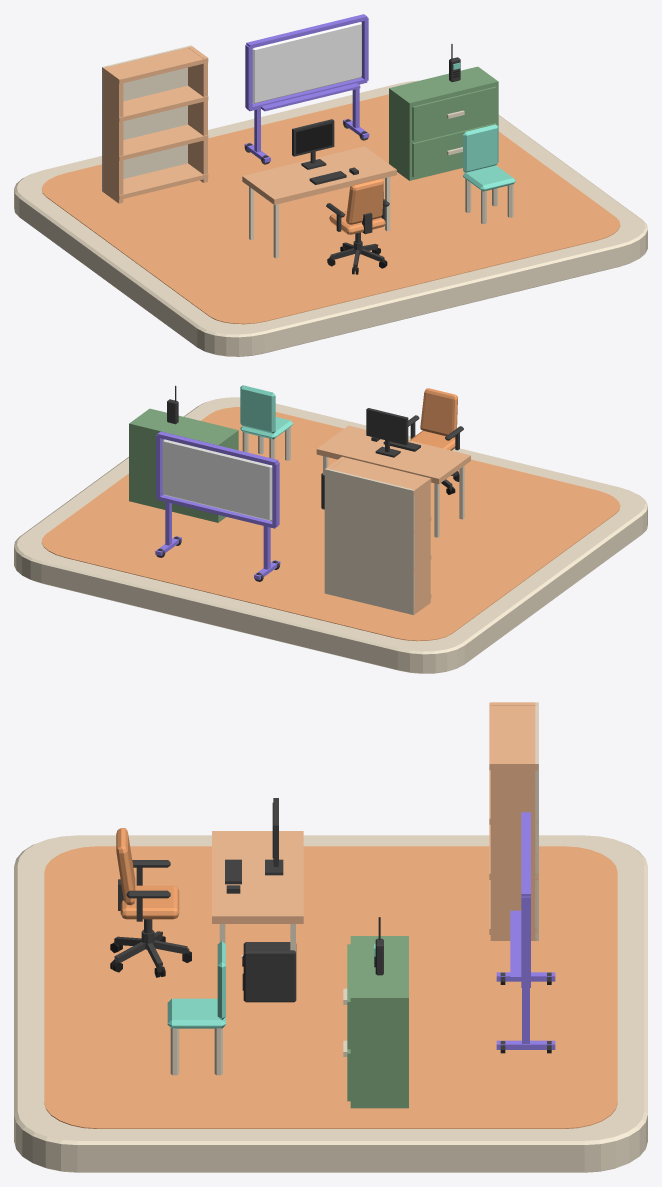
3 renders of one model, top to bottom at view 1: azimuth 30°, elevation 25°; view 2: azimuth 150°, elevation 25°; view 3: azimuth 270°, elevation 25°, orthographic. The views are drawn at different scales.
Parts seen in each view (by area): view 1: COM-02 Floor Surface, COM-01 Rounded Base Direct, Cabinet, Writing surface, Top, Back, COM-04_Chair_blender_direct, Side, Side.001, Shelf.003, Shelf, Shelf.001 (+8 smaller); view 2: COM-02 Floor Surface, COM-01 Rounded Base Direct, Back, Writing surface, Cabinet, Top, COM-04_Chair_blender_direct, Side, Backrest, Frame, Shelf.003, Frame rail.001 (+4 smaller); view 3: COM-02 Floor Surface, COM-01 Rounded Base Direct, Cabinet, Top, Side.001, COM-04_Chair_blender_direct, Tower, Shelf.003, Seat, Back, Frame upright.001, Frame rail.001 (+3 smaller).
Part boxes in pixels (<box>): COM-02 Floor Surface: <box>41,94,620,324</box>; COM-01 Rounded Base Direct: <box>14,80,647,356</box>; Cabinet: <box>389,66,498,180</box>; Writing surface: <box>252,22,361,103</box>; Top: <box>242,146,396,258</box>; Back: <box>102,45,191,191</box>; COM-04_Chair_blender_direct: <box>326,178,389,274</box>; Side: <box>103,66,123,203</box>; Side.001: <box>188,46,207,182</box>; Shelf.003: <box>102,47,208,83</box>; Shelf: <box>103,163,208,199</box>; Shelf.001: <box>103,124,208,160</box>; COM-02 Floor Surface: <box>41,407,620,641</box>; COM-01 Rounded Base Direct: <box>14,397,647,673</box>; Back: <box>324,468,414,615</box>; Writing surface: <box>162,439,272,520</box>; Cabinet: <box>129,408,238,522</box>; Top: <box>316,425,470,537</box>; COM-04_Chair_blender_direct: <box>408,388,463,494</box>; Side: <box>411,477,430,614</box>; Backrest: <box>240,385,275,433</box>; Frame: <box>366,408,408,457</box>; Shelf.003: <box>331,456,431,494</box>; Frame rail.001: <box>157,431,278,465</box>; COM-02 Floor Surface: <box>44,846,617,1128</box>; COM-01 Rounded Base Direct: <box>14,835,647,1172</box>; Cabinet: <box>343,936,408,1108</box>; Top: <box>212,831,303,951</box>; Side.001: <box>490,761,536,940</box>; COM-04_Chair_blender_direct: <box>110,828,191,977</box>; Tower: <box>243,942,296,1002</box>; Shelf.003: <box>489,702,538,770</box>; Seat: <box>167,998,225,1028</box>; Back: <box>535,702,538,940</box>; Frame upright.001: <box>521,896,530,986</box>; Frame rail.001: <box>521,812,530,896</box>.
Bounding box in the file's own units: 6 × 1.9 × 5.2.
Materials: 1 (1 with a texture image).
